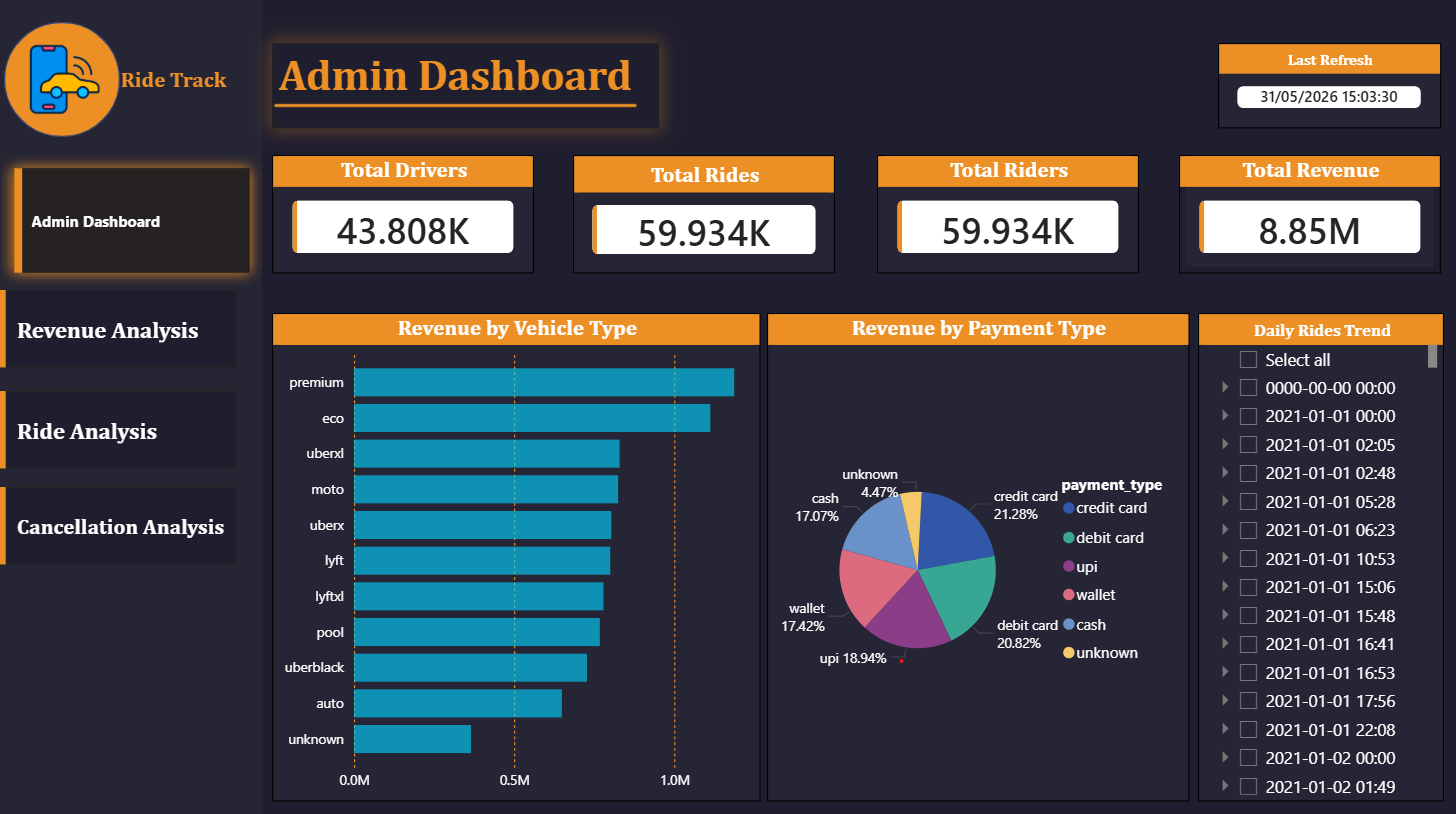

What the dashboard file says about the page in this screenshot:
{"tool":"powerbi","page":{"name":"Admin Dashboard","canvas":[1280,720],"ordinal":0},"visuals":[{"type":"group","id":"g1","title":"Group 1","box":[0,0,230.9,720],"z":0},{"type":"shape","box":[0,0,230,720],"z":0,"group":"g1"},{"type":"textbox","box":[238.8,42.1,339.8,74.6],"z":0,"group":"g2"},{"type":"shape","box":[239.7,88.6,320.5,16.7],"z":1000,"group":"g2"},{"type":"cardVisual","title":"Total Revenue","fields":{"Data":["Sum(gold_ridesharing.total_fare)"]},"box":[1035.2,140.5,230,104.5],"z":1000},{"type":"textbox","box":[101,57.9,115,33.4],"z":2000,"group":"g3"},{"type":"cardVisual","title":"Total Riders","fields":{"Data":["CountNonNull(gold_ridesharing.rider_id)"]},"box":[770,140.5,230,104.5],"z":2000},{"type":"pageNavigator","box":[0,259.4,208,68.5],"z":2000,"group":"g1"},{"type":"cardVisual","title":"Total Drivers","fields":{"Data":["Count(gold_ridesharing.driver_id)"]},"box":[238.8,140.5,230,104.5],"z":3000},{"type":"pageNavigator","box":[0,432,208,68.5],"z":3000,"group":"g1"},{"type":"cardVisual","title":"Total Rides","fields":{"Data":["CountNonNull(gold_ridesharing.trip_id)"]},"box":[503.1,140.5,230,104.5],"z":4000},{"type":"pageNavigator","box":[0,347.9,208,68.5],"z":4000,"group":"g1"},{"type":"pageNavigator","box":[0.8,140.5,230,115],"z":5000,"group":"g1"},{"type":"clusteredBarChart","title":"Revenue by Vehicle Type","fields":{"Category":["vehicle_revenue_summary.vehicle_type"],"Y":["Sum(vehicle_revenue_summary.sum_veh_type)"]},"box":[238.8,279.2,429.4,429.4],"z":5000},{"type":"slicer","title":"Daily Rides Trend","fields":{"Values":["gold_ridesharing.pickup_datetime","gold_ridesharing.trip_id"]},"box":[1052.1,279.1,216.4,429.3],"z":6000},{"type":"pieChart","title":"Revenue by Payment Type","fields":{"Category":["gold_ridesharing.payment_type"],"Y":["Sum(gold_ridesharing.total_fare)"]},"box":[673.5,279.2,370.5,429.4],"z":7000},{"type":"group","id":"g2","title":"Group 3","box":[238.8,42.1,339.8,74.6],"z":8000},{"type":"group","id":"g3","title":"Group 2","box":[3.5,23.7,212.5,101],"z":9000},{"type":"shape","box":[3.5,23.7,101.9,101],"z":9000,"group":"g3"},{"type":"cardVisual","title":"Last Refresh","fields":{"Data":["gold_ridesharing.Last Refresh"]},"box":[1069.5,42.1,195.8,74.6],"z":10000},{"type":"image","box":[22.8,42.1,67.6,64.1],"z":11000,"group":"g3"}]}

Visuals, with their boxes on the page's 1280x720 design canvas (x1, y1, x2, y2). These are canvas units, not pixel positions in the 1456x814 screenshot, which may show the page scaled, cropped or inside an application window:
"Group 1" group: 0,0,231,720
shape: 0,0,230,720
textbox: 239,42,579,117
shape: 240,89,560,105
"Total Revenue" cardVisual: 1035,140,1265,245
textbox: 101,58,216,91
"Total Riders" cardVisual: 770,140,1000,245
pageNavigator: 0,259,208,328
"Total Drivers" cardVisual: 239,140,469,245
pageNavigator: 0,432,208,500
"Total Rides" cardVisual: 503,140,733,245
pageNavigator: 0,348,208,416
pageNavigator: 1,140,231,256
"Revenue by Vehicle Type" clusteredBarChart: 239,279,668,709
"Daily Rides Trend" slicer: 1052,279,1268,708
"Revenue by Payment Type" pieChart: 674,279,1044,709
"Group 3" group: 239,42,579,117
"Group 2" group: 4,24,216,125
shape: 4,24,105,125
"Last Refresh" cardVisual: 1070,42,1265,117
image: 23,42,90,106
